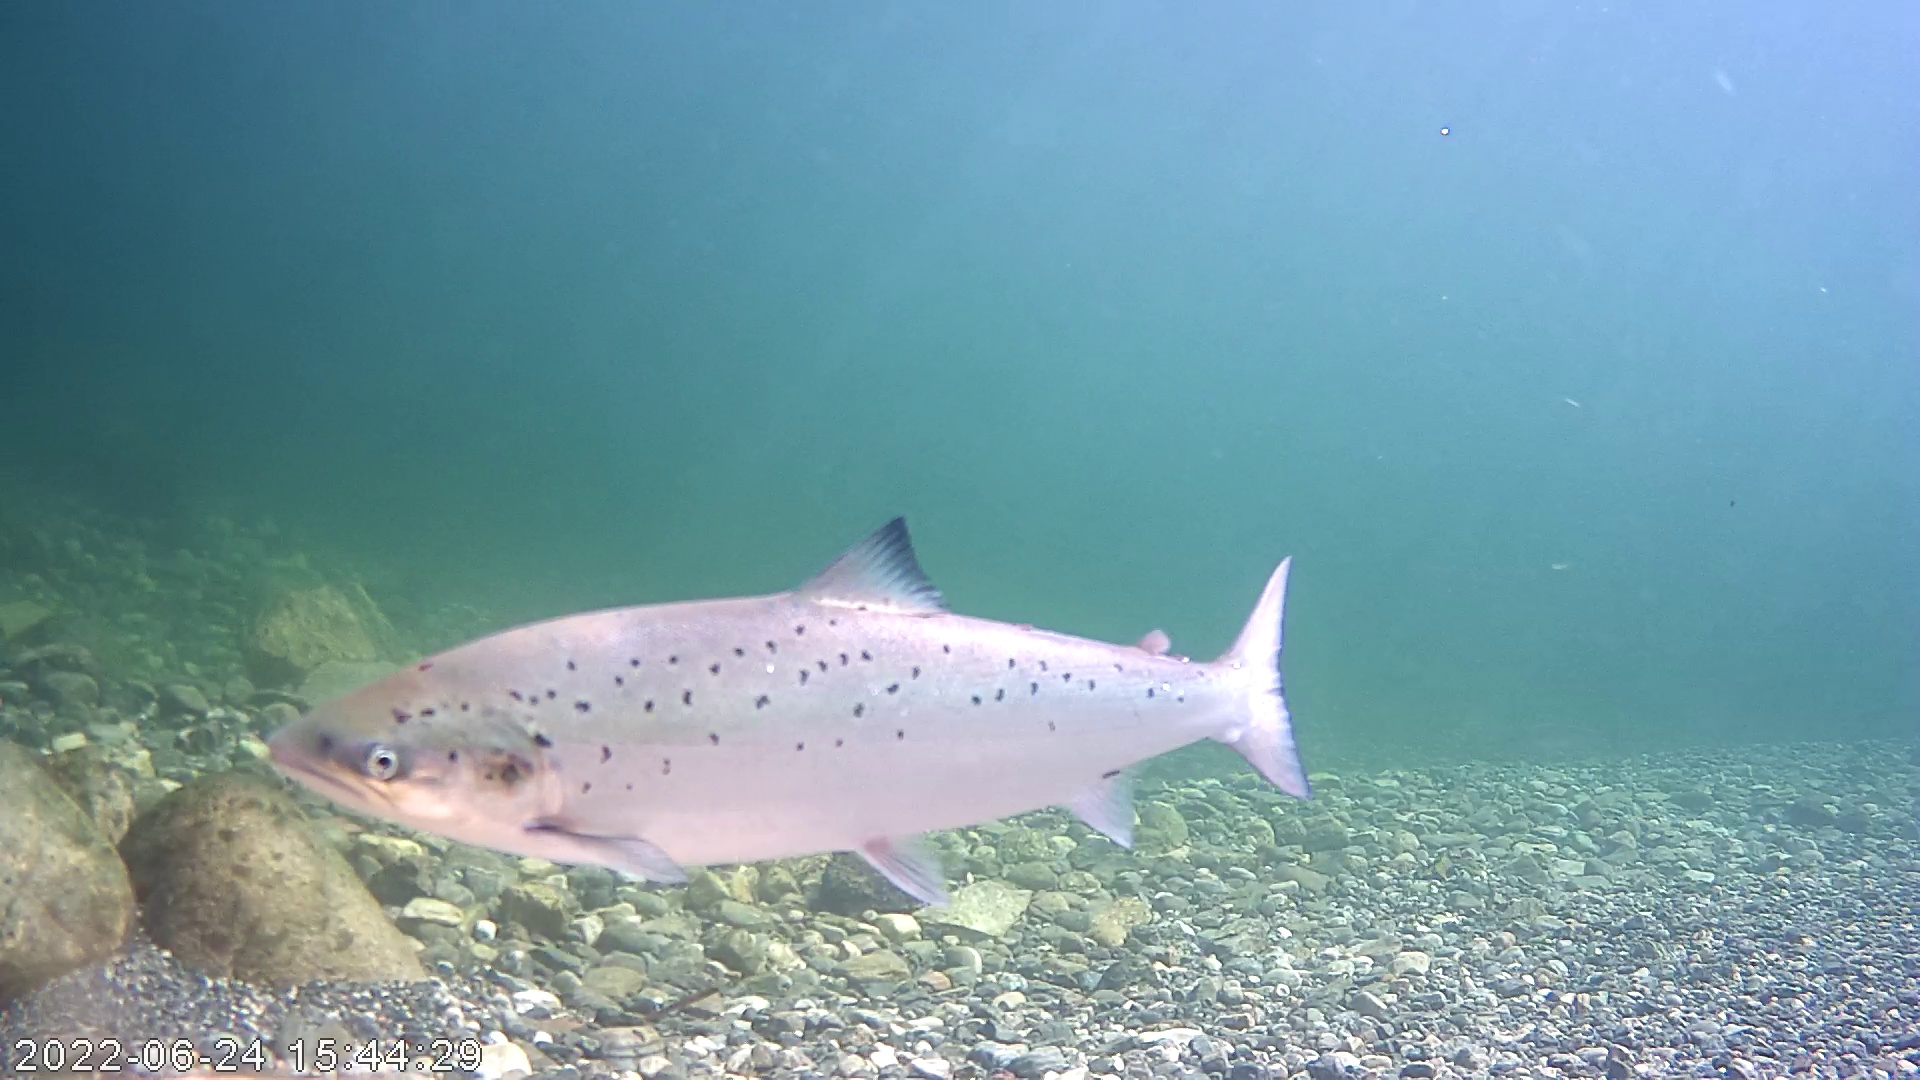salmon: (261, 512, 1309, 907)
